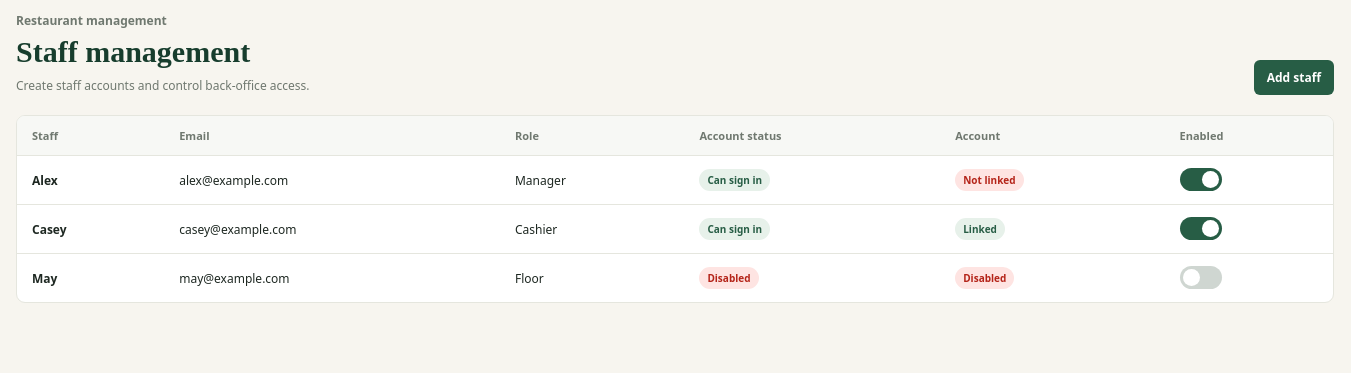
Scenario: StaffManagement › does not allow disabling the last active manager
What coordinates should you click on to do the following:
click the button named "Toggle account status for Alex"
I would click on:
 (1201, 180)
Its box is 1180,168 -> 1222,191.
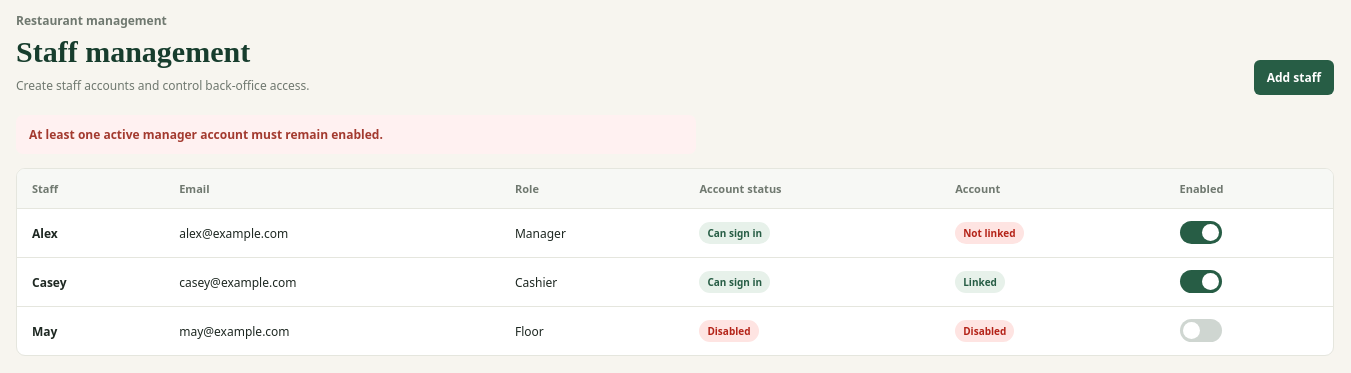
Expected: the message reads "At least one active manager account must remain enabled.", 29,126 -> 383,143
